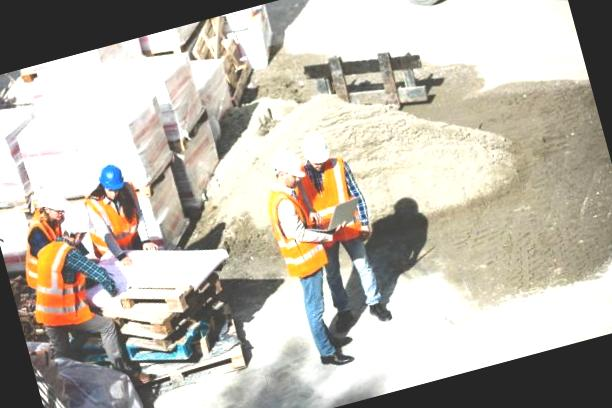helmet: (26, 178, 74, 227), (91, 160, 136, 204), (300, 130, 338, 172), (270, 149, 308, 187)
person: (250, 144, 358, 374), (290, 124, 396, 330), (10, 208, 128, 357), (74, 156, 157, 271)
